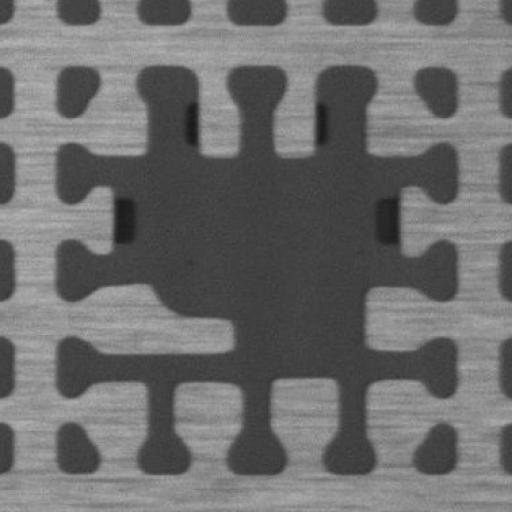NO_DIE: (50, 59, 461, 472)
